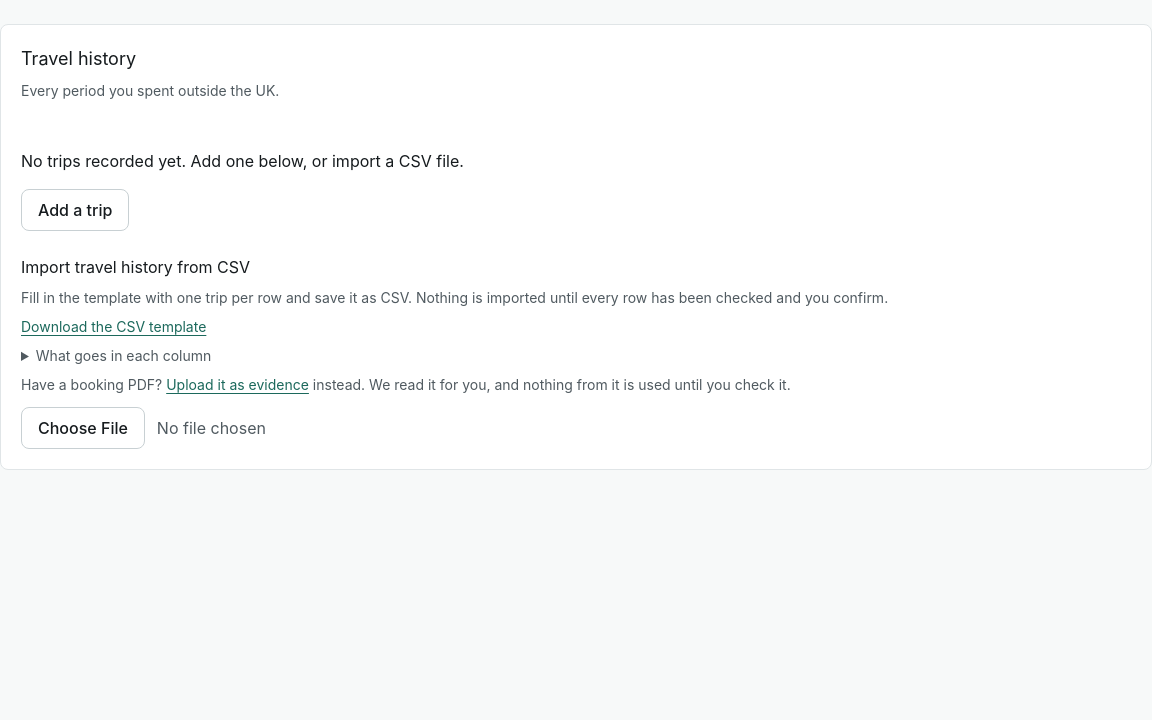
Test: TravelHistory › adds a trip and announces it
The image size is (1152, 720).
Click the button "Add a trip" at [75, 210], box [21,189,129,231]
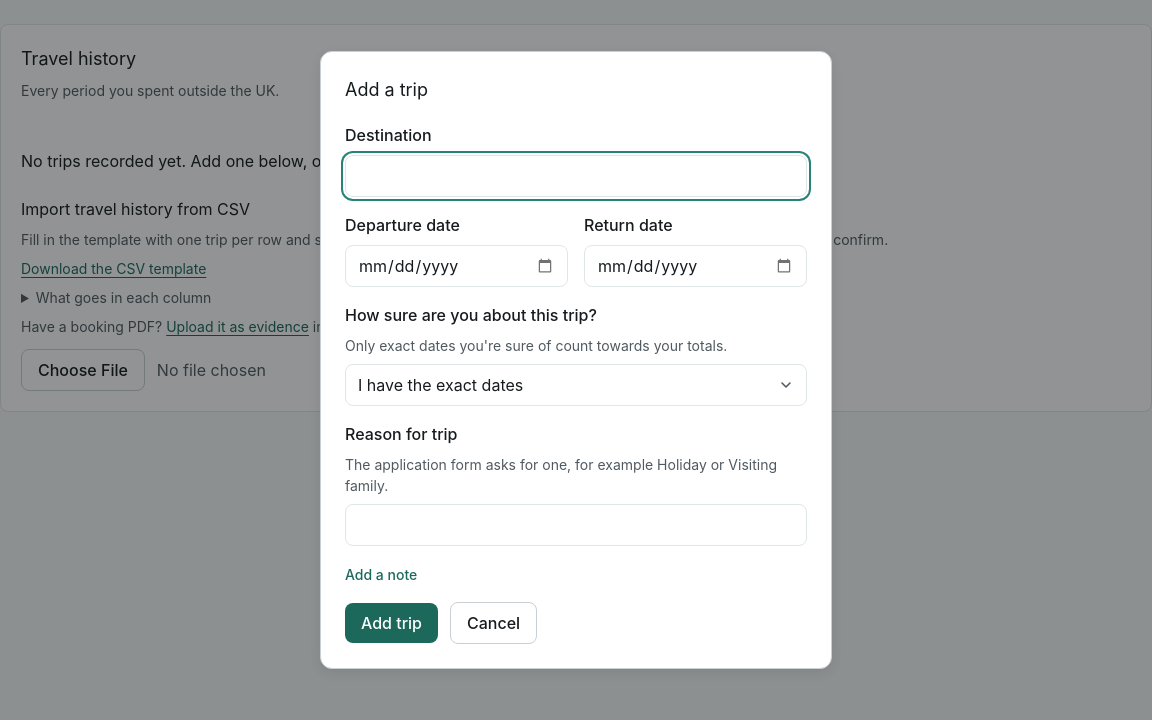
Type "Spain" into the dropdown labelled "Destination" at [576, 176], box [345,155,807,197]
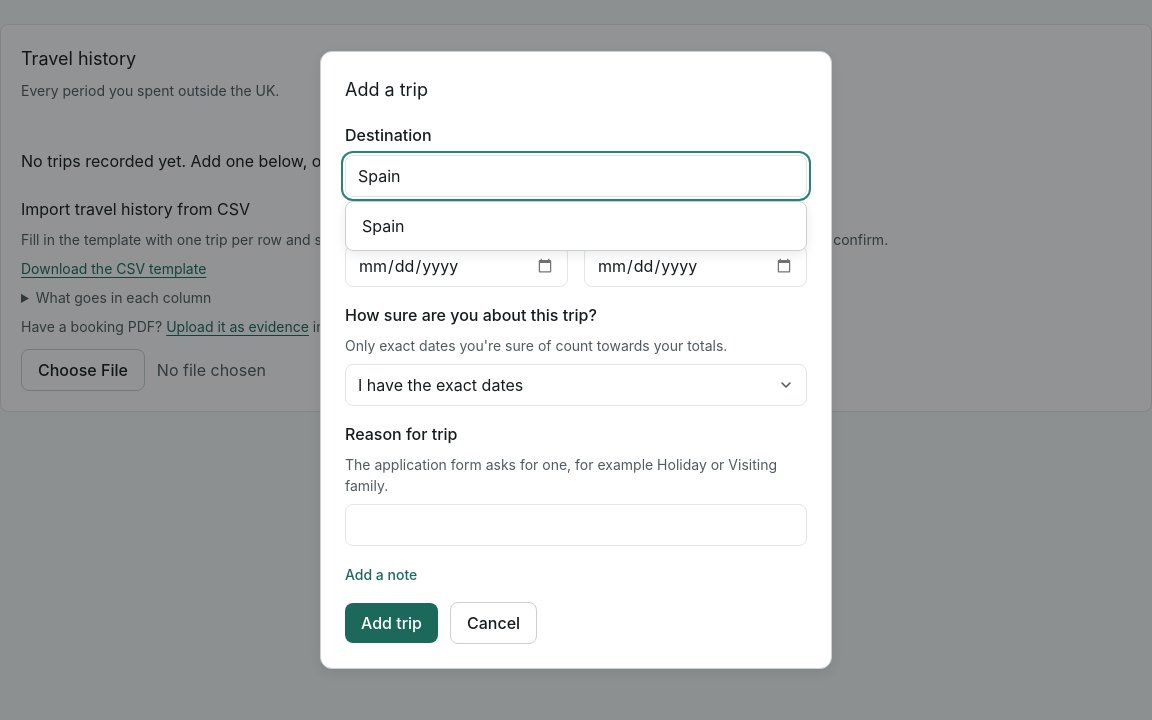
Type "2022-04-14" into the date field labelled "Departure date" at [456, 266], box [345,245,568,287]
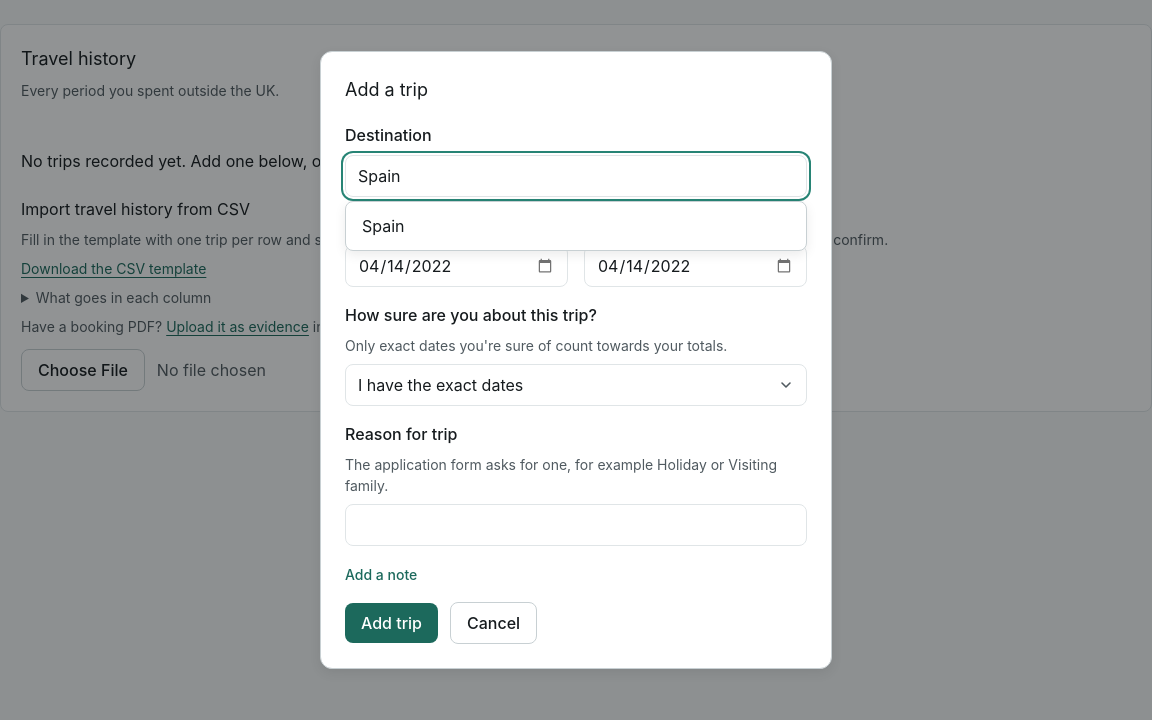
Type "2022-04-26" into the date field labelled "Return date" at [696, 266], box [584,245,807,287]
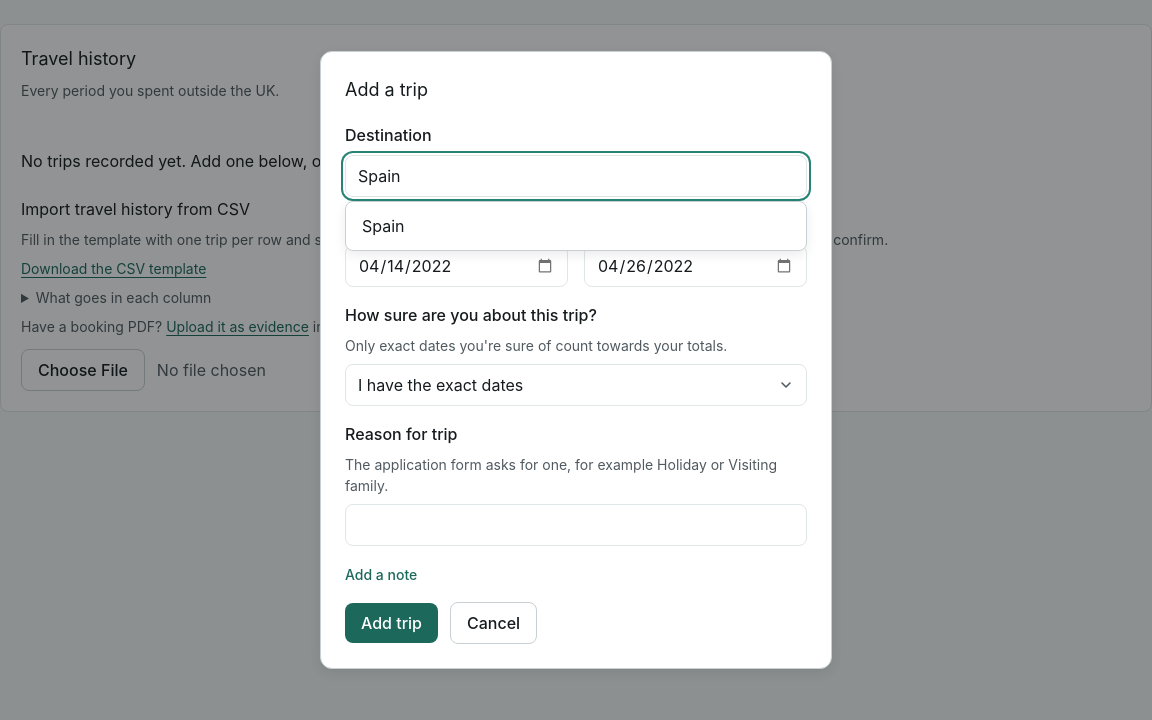
Click the button "Add trip" at [392, 623], box [345,603,438,643]
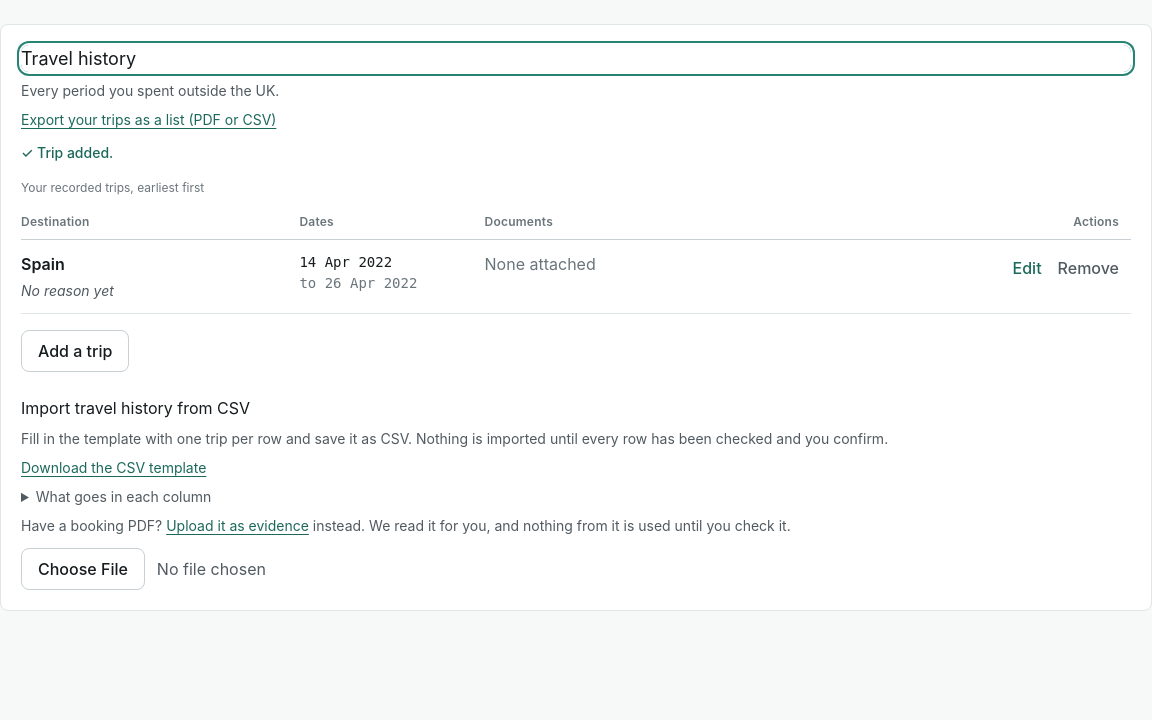
expect the text "Trip added." is shown: met, box [37,144,113,161]
